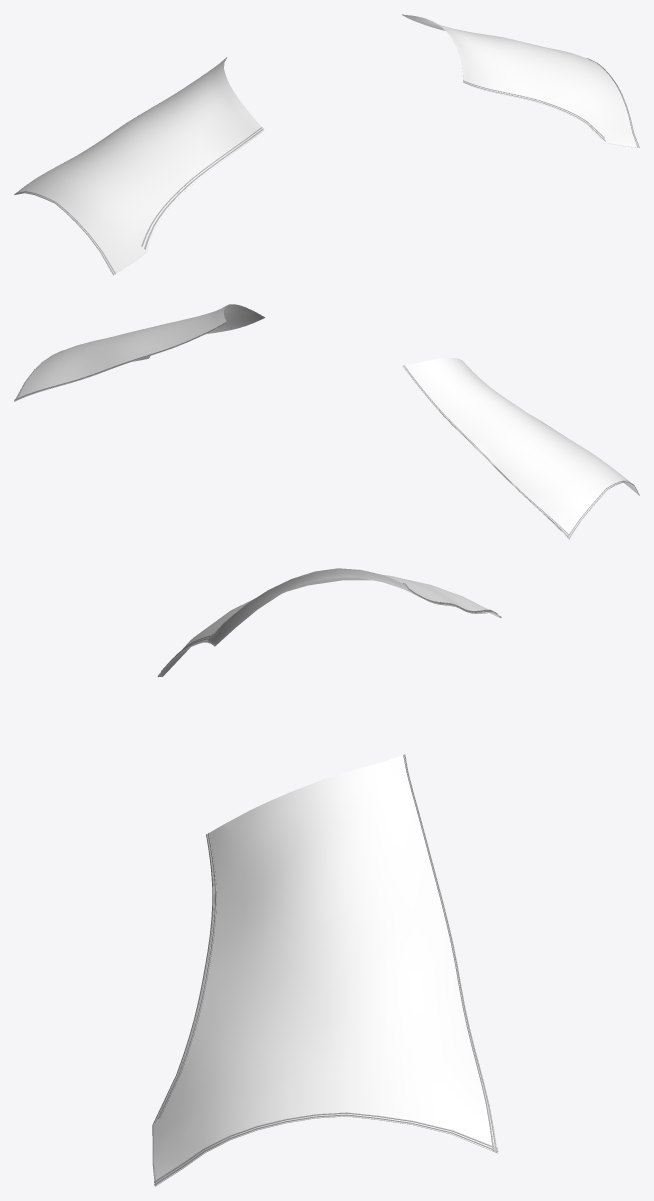
File: Jac_Decor_Top_V2.glb
3 renders of one model, top to bottom at view 1: azimuth 30°, elevation 25°; view 2: azimuth 150°, elevation 25°; view 3: azimuth 270°, elevation 25°, orthographic. The views are drawn at different scales.
Visible parts, largest first — view 1: Jac_Decor_TOP1.001, Jac_Rope_Decor_TOP1.001; view 2: Jac_Decor_TOP1.001, Jac_Rope_Decor_TOP1.001; view 3: Jac_Decor_TOP1.001, Jac_Rope_Decor_TOP1.001.
Boxes of the visible parts, <box> form: Jac_Decor_TOP1.001: <box>14,14,639,275</box>; Jac_Rope_Decor_TOP1.001: <box>14,14,639,275</box>; Jac_Decor_TOP1.001: <box>14,304,639,539</box>; Jac_Rope_Decor_TOP1.001: <box>14,321,639,538</box>; Jac_Decor_TOP1.001: <box>152,568,500,1186</box>; Jac_Rope_Decor_TOP1.001: <box>154,583,501,1185</box>.
Size of the model in its own units: 0.7874 by 0.1792 by 0.2147.
Materials: 2 (2 with a texture image).
